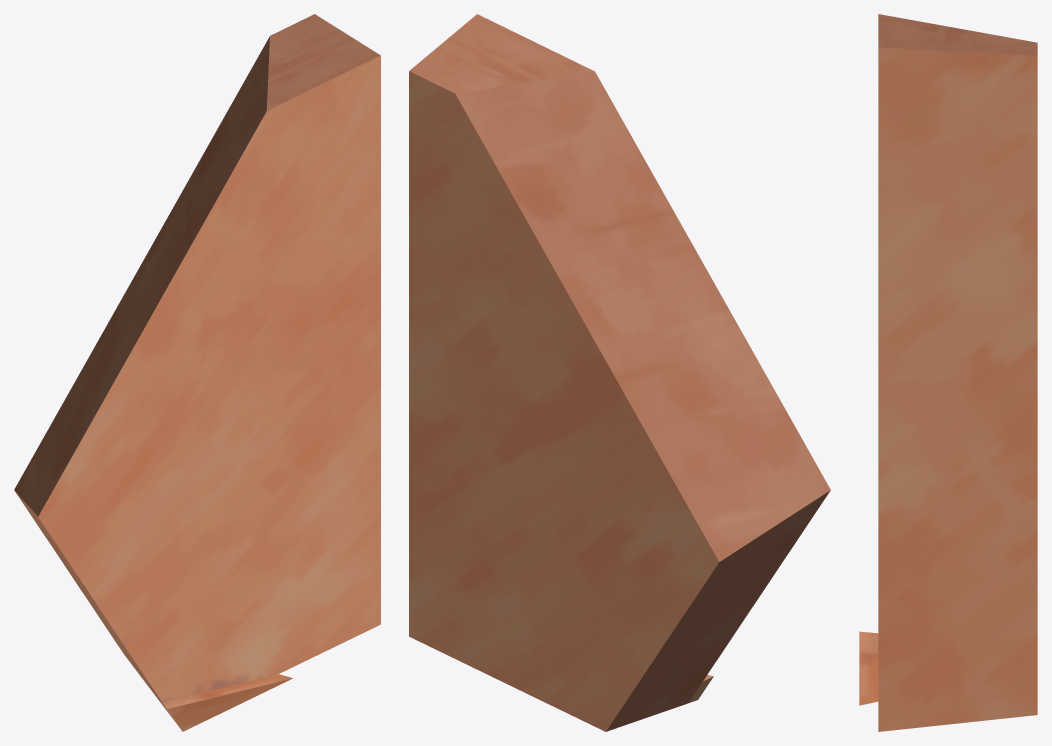
Rendered from wall2_upper_s09.fbx.
3 views of the same model, side by side, from view 1: azimuth 30°, elevation 25°; view 2: azimuth 150°, elevation 25°; view 3: azimuth 270°, elevation 25° (orthographic). The views are drawn at different scales.
Parts seen in each view (by area): view 1: wall2_upper_s09; view 2: wall2_upper_s09; view 3: wall2_upper_s09.
Part boxes in pixels (x1,y1,x2,y2): wall2_upper_s09: (14, 14, 380, 731); wall2_upper_s09: (409, 14, 830, 731); wall2_upper_s09: (859, 14, 1037, 731).
Bounding box in the file's own units: 2.99 × 5.17 × 1.12.
